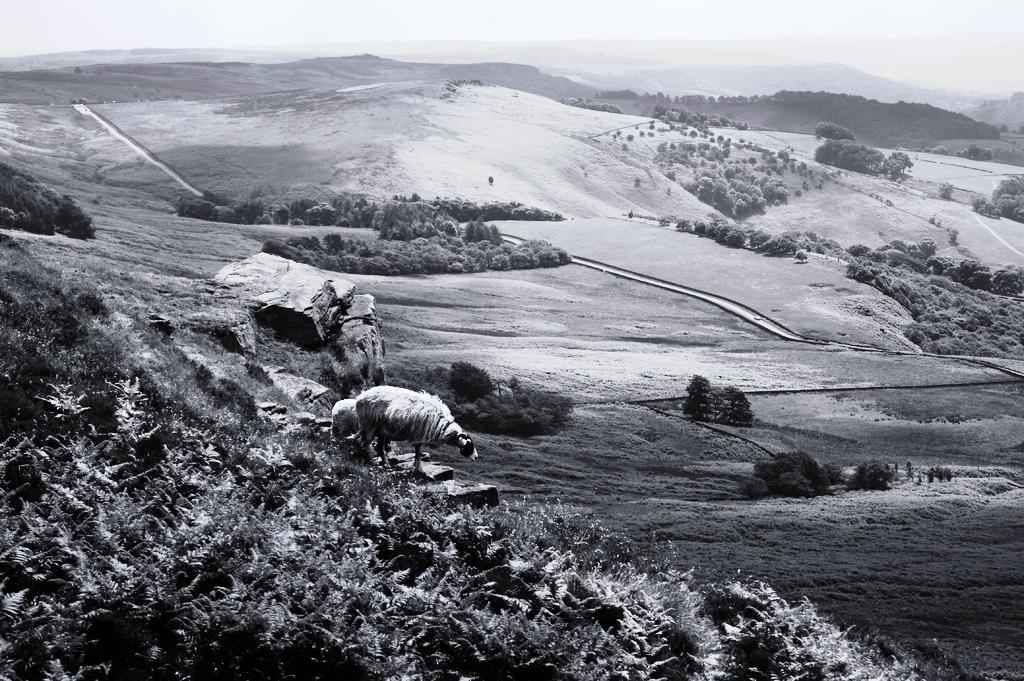Sheep: (332, 383, 480, 475), (335, 402, 391, 456)
